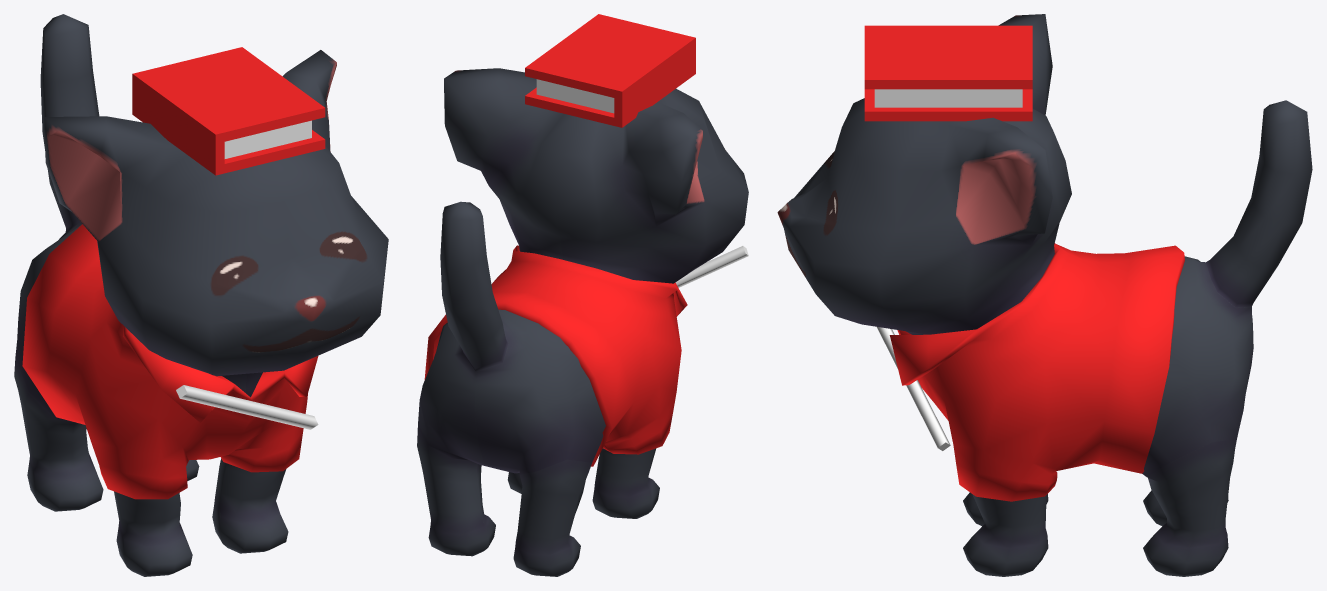
The model's file is Disciplinarian Cat03.fbx.
3 views of the same model, side by side, from view 1: azimuth 30°, elevation 25°; view 2: azimuth 150°, elevation 25°; view 3: azimuth 270°, elevation 25° (orthographic). The views are drawn at different scales.
Parts seen in each view (by area): view 1: Cat_Base002, Disciplinarian_Cat_Shirt, Disciplinarian_Cat_Handbook, Cone001; view 2: Cat_Base002, Disciplinarian_Cat_Shirt, Disciplinarian_Cat_Handbook, Cone001; view 3: Cat_Base002, Disciplinarian_Cat_Shirt, Disciplinarian_Cat_Handbook, Cone001.
Part boxes in pixels (<box>): Cat_Base002: <box>14,14,388,576</box>; Disciplinarian_Cat_Shirt: <box>22,224,318,499</box>; Disciplinarian_Cat_Handbook: <box>132,47,325,175</box>; Cone001: <box>176,385,318,429</box>; Cat_Base002: <box>417,68,748,576</box>; Disciplinarian_Cat_Shirt: <box>424,245,687,466</box>; Disciplinarian_Cat_Handbook: <box>525,14,695,127</box>; Cone001: <box>675,246,748,287</box>; Cat_Base002: <box>777,14,1312,576</box>; Disciplinarian_Cat_Shirt: <box>889,243,1184,501</box>; Disciplinarian_Cat_Handbook: <box>864,25,1032,121</box>; Cone001: <box>877,327,950,450</box>.
Size of the model in its own units: 1.75 by 2.83 by 2.85.
3 materials, 1 textured.
